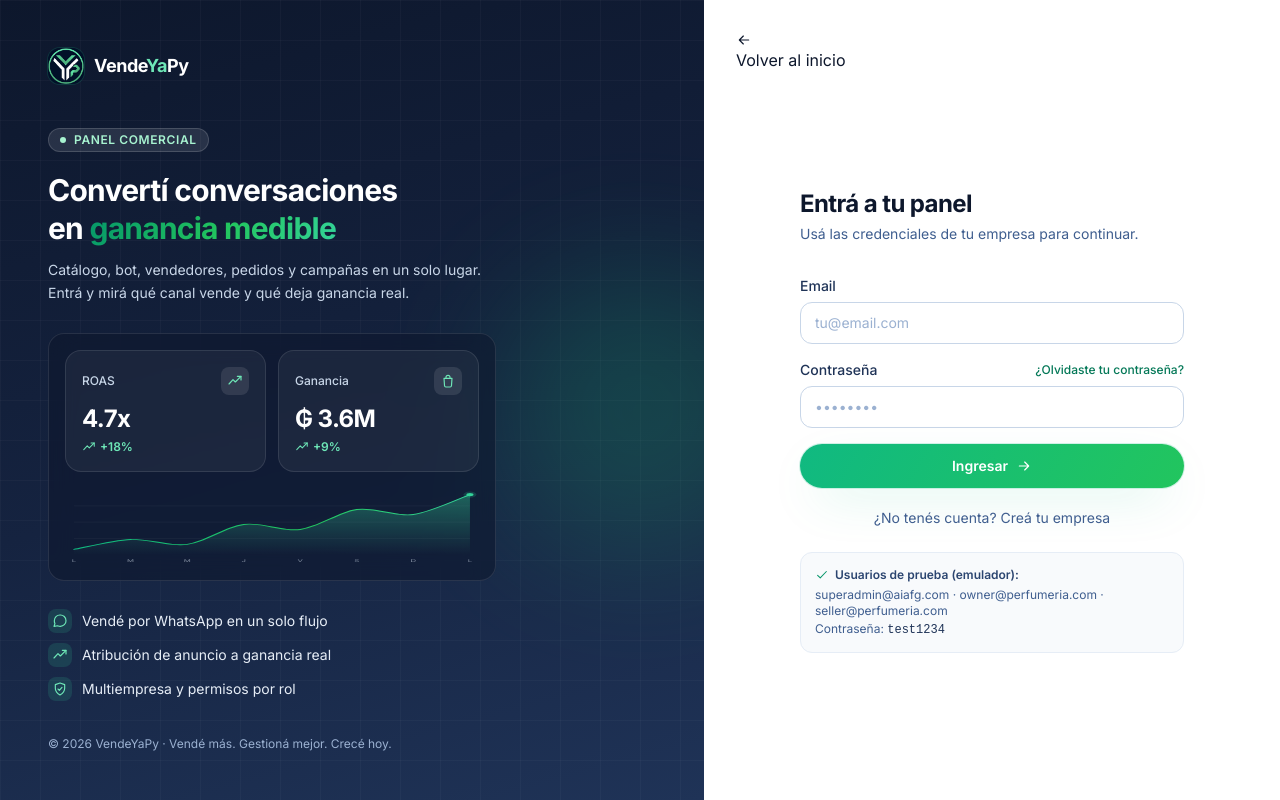
Test: LoginPage — recuperación de contraseña › email inexistente → MISMO mensaje genérico (no revela existencia)
Click the button "¿Olvidaste tu contraseña?" at (1110, 370), box [1035, 362, 1184, 378]
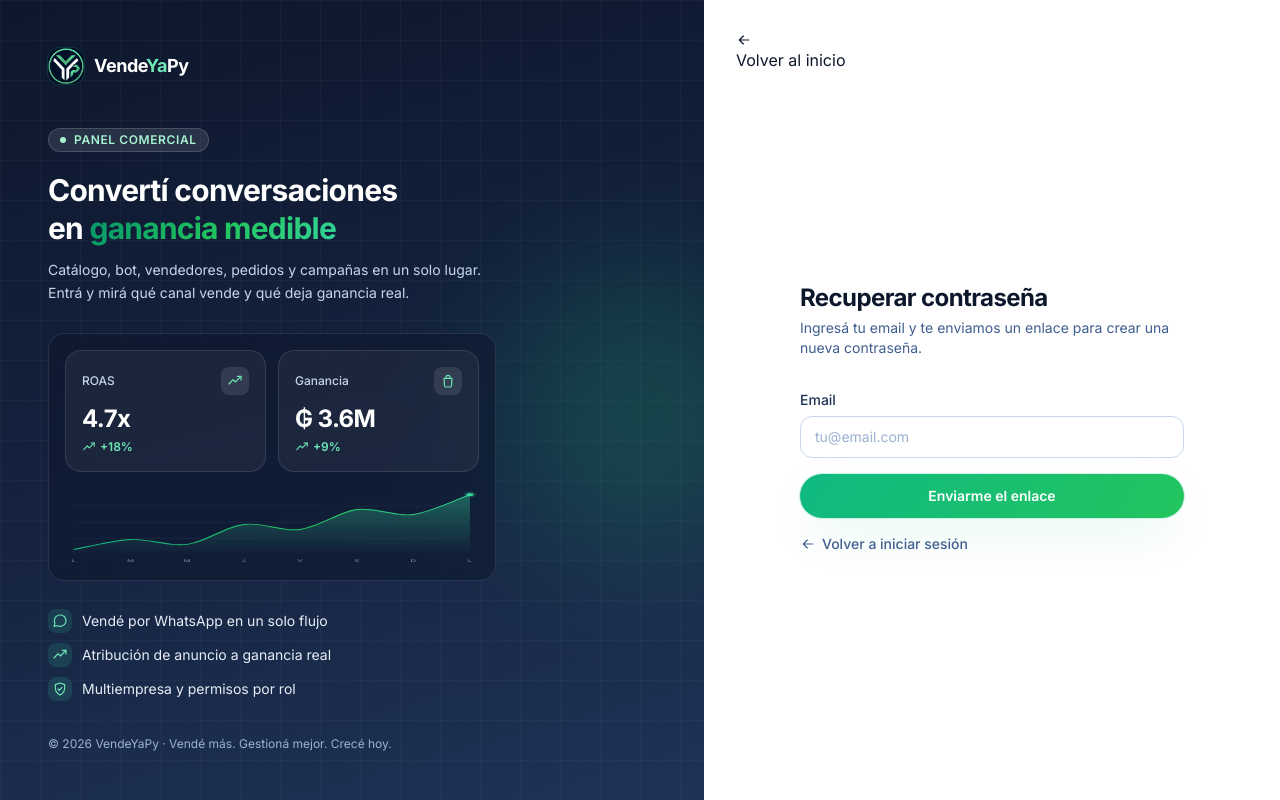
Type "ghost@test.com" into the field labelled "Email" at (992, 437), box [800, 416, 1184, 458]
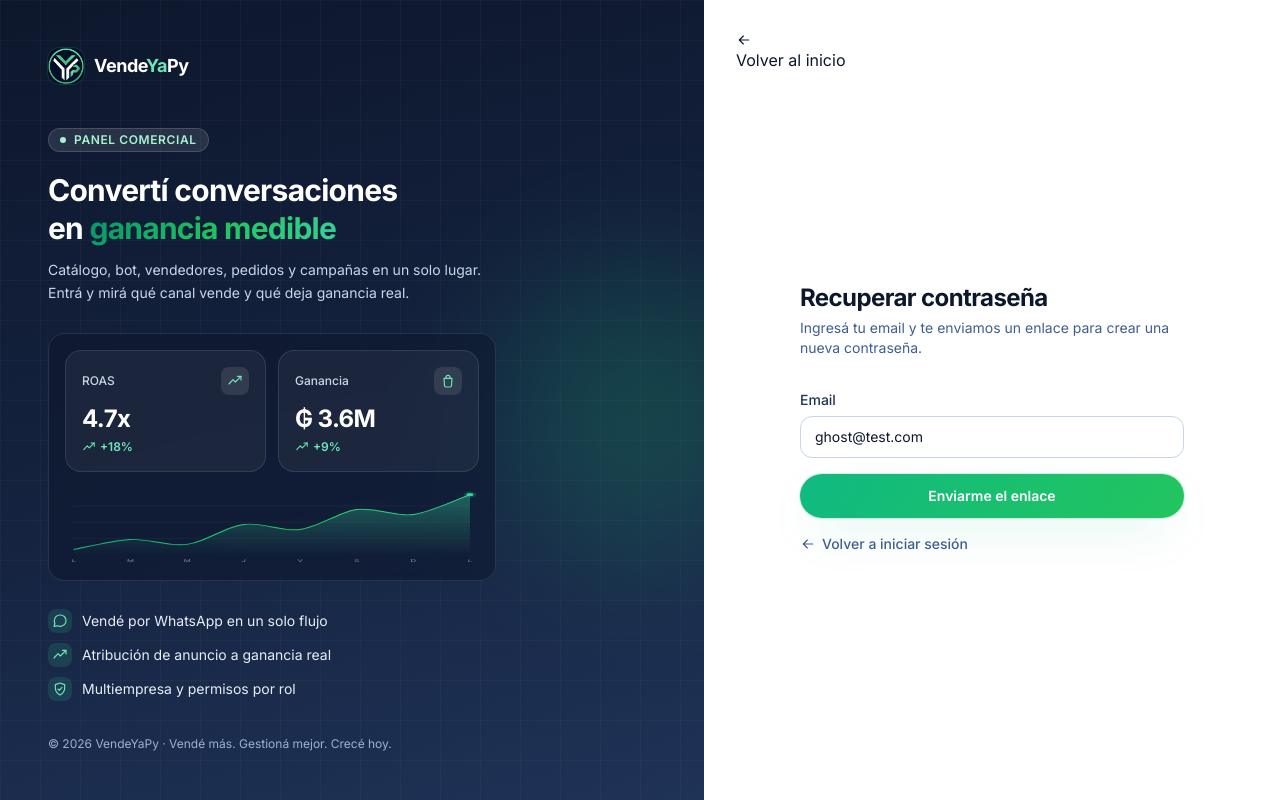
Submit the form labelled "Email Enviarme el enlace Volver a iniciar sesión", box [800, 390, 1184, 558]
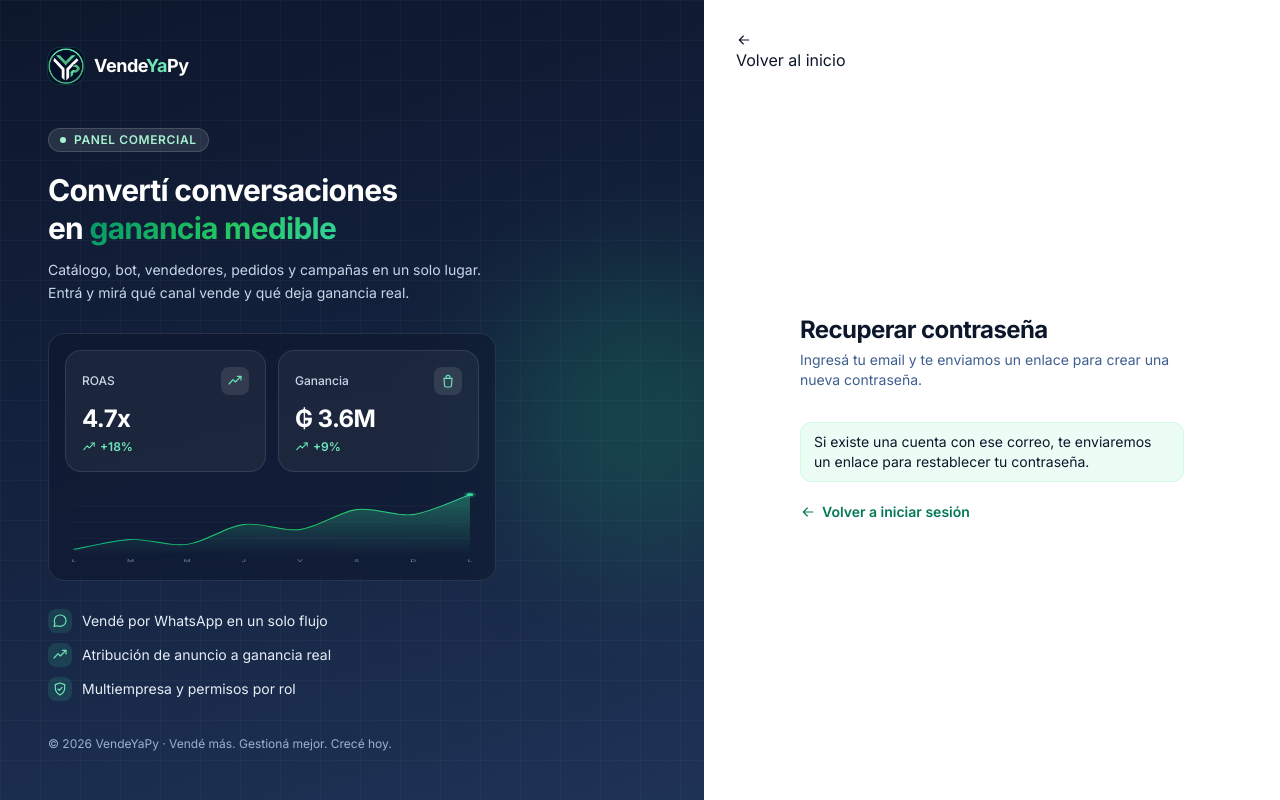
Check: the text "Si existe una cuenta con ese correo" is shown, box [814, 433, 1152, 470]
